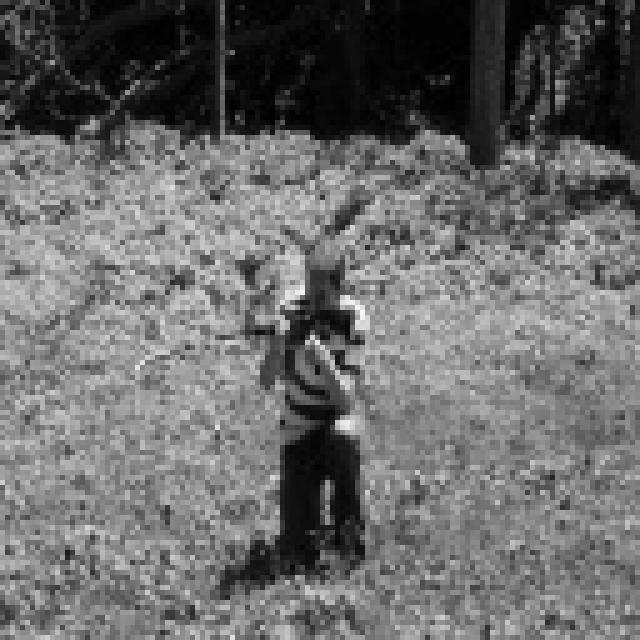Rifle: (238, 278, 390, 395)
